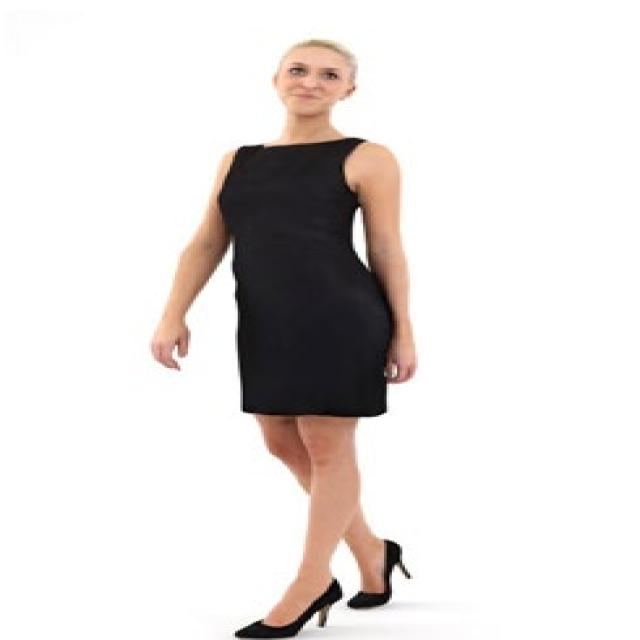standing: (147, 38, 416, 640)
